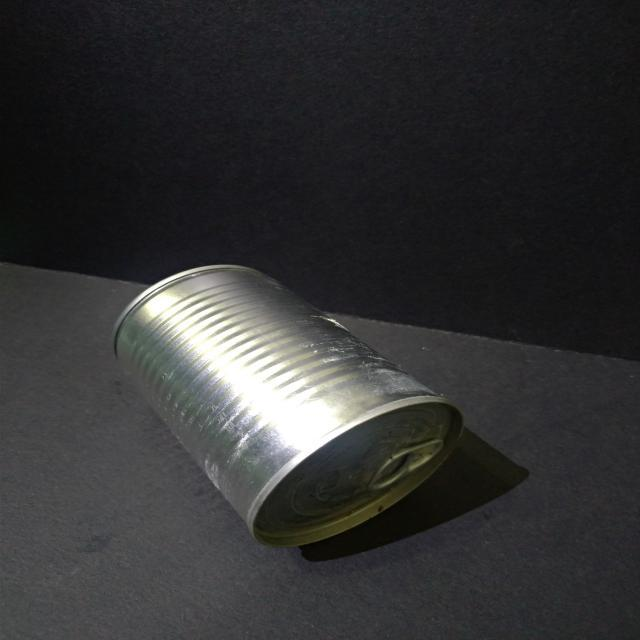metal-can: (108, 255, 470, 553)
